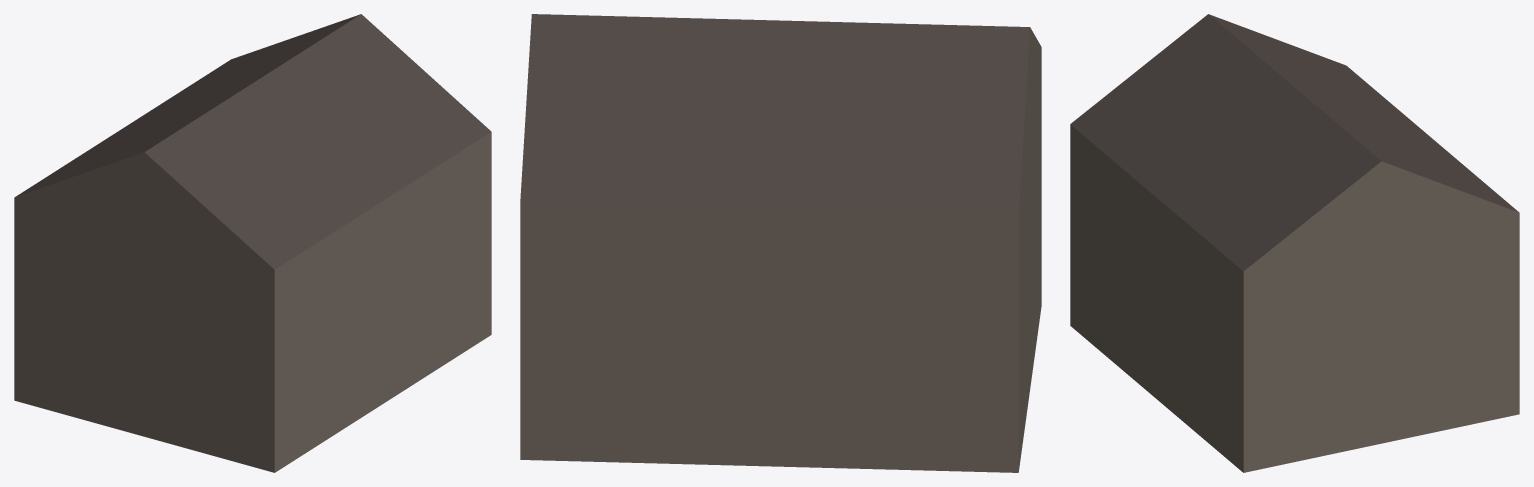
The picture shows the model from 3 angles, left to right: view 1: azimuth 30°, elevation 25°; view 2: azimuth 150°, elevation 25°; view 3: azimuth 270°, elevation 25°; orthographic projection. The views are drawn at different scales.
Parts seen in each view (by area): view 1: HP-w859088501; view 2: HP-w859088501; view 3: HP-w859088501.
Part boxes in pixels (x1,y1,x2,y2): HP-w859088501: [14, 14, 491, 472]; HP-w859088501: [520, 14, 1041, 472]; HP-w859088501: [1070, 14, 1519, 472].
Size of the model in its own units: 19.73 by 12.61 by 18.21.
